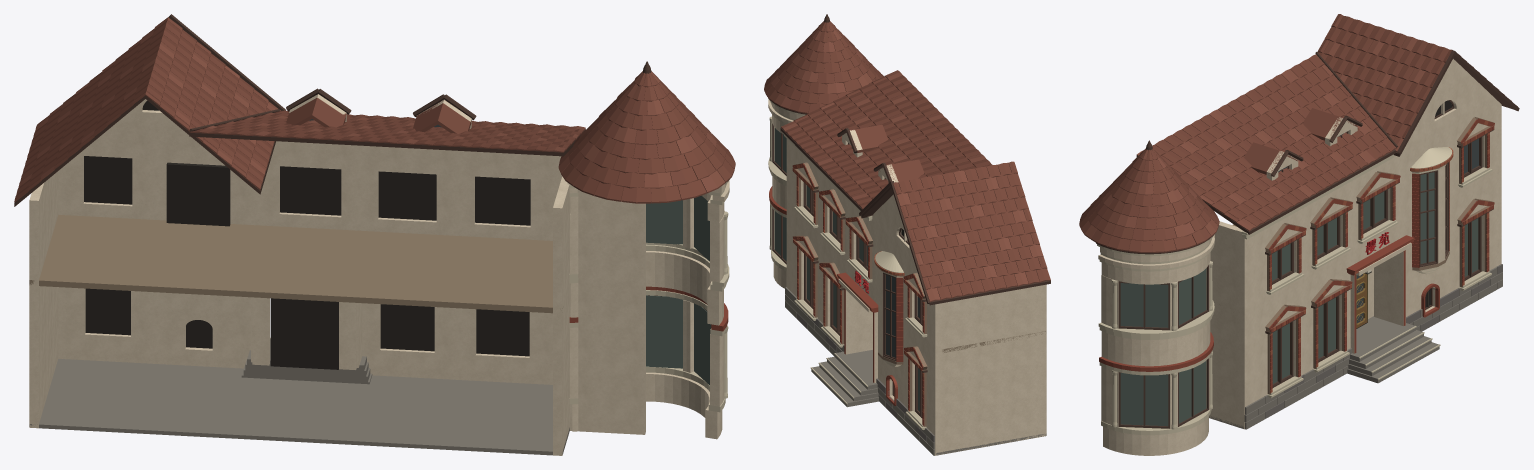
File: hongkou-yingyuan-villa-pedimented-entrance-lod.glb
3 views of the same model, side by side, from view 1: azimuth 30°, elevation 25°; view 2: azimuth 150°, elevation 25°; view 3: azimuth 270°, elevation 25° (orthographic). The views are drawn at different scales.
Parts seen in each view (by area): view 1: 樱苑别墅东北立面三角窗楣与题名门廊; view 2: 樱苑别墅东北立面三角窗楣与题名门廊; view 3: 樱苑别墅东北立面三角窗楣与题名门廊.
Part boxes in pixels (x1=…): 樱苑别墅东北立面三角窗楣与题名门廊: x1=14, y1=14, x2=735, y2=455; 樱苑别墅东北立面三角窗楣与题名门廊: x1=764, y1=14, x2=1050, y2=455; 樱苑别墅东北立面三角窗楣与题名门廊: x1=1079, y1=14, x2=1519, y2=455.
Bounding box in the file's own units: 17.56 × 11.18 × 15.38.
Materials: 20 (1 with a texture image).
